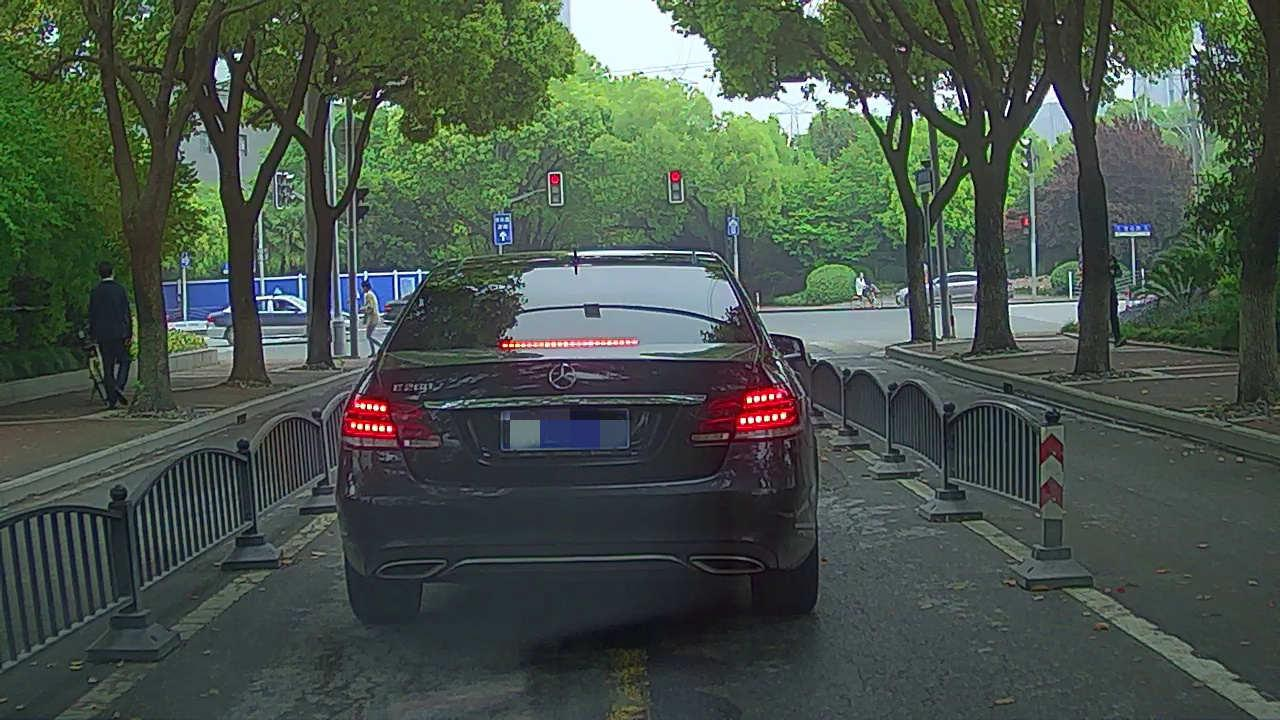traffic_light: (668, 169, 683, 202), (549, 173, 563, 205)
